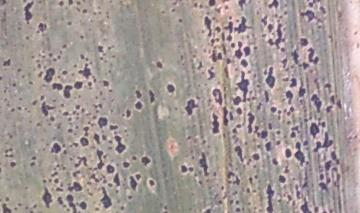tarspot: (262, 64, 279, 90), (314, 130, 335, 150), (237, 70, 250, 101), (97, 185, 112, 209), (308, 93, 324, 115), (112, 133, 127, 156), (22, 1, 36, 25), (275, 18, 286, 48), (201, 13, 214, 38), (198, 151, 209, 180), (233, 17, 251, 34), (244, 109, 255, 136), (294, 140, 305, 167), (265, 181, 274, 213), (298, 8, 316, 24), (185, 95, 198, 117), (93, 148, 105, 171), (77, 62, 93, 79), (307, 45, 321, 64), (233, 144, 246, 164), (41, 186, 52, 209), (307, 119, 320, 138), (39, 100, 54, 116), (210, 47, 225, 63), (210, 110, 219, 136), (211, 86, 223, 105), (90, 130, 103, 147), (65, 193, 76, 213), (290, 46, 300, 68), (147, 86, 157, 107), (298, 197, 311, 213), (43, 66, 55, 83), (221, 104, 229, 129), (287, 74, 298, 92), (49, 140, 62, 155), (66, 180, 82, 192), (127, 174, 137, 193), (165, 80, 176, 97), (276, 172, 289, 186), (317, 180, 330, 194), (140, 153, 152, 168), (112, 171, 122, 189), (64, 82, 73, 102), (264, 1, 281, 11), (283, 145, 293, 162), (284, 88, 294, 105), (96, 116, 110, 128), (205, 67, 216, 82), (331, 149, 341, 165), (77, 199, 89, 212), (154, 58, 165, 72), (121, 158, 132, 172), (73, 79, 84, 93), (50, 82, 64, 93), (262, 140, 273, 154), (223, 19, 234, 33), (133, 86, 143, 101), (35, 23, 50, 33), (269, 156, 281, 168), (225, 168, 237, 180), (1, 200, 12, 213), (250, 150, 261, 163), (321, 80, 334, 91), (105, 161, 115, 175), (236, 1, 250, 11), (2, 56, 12, 70), (265, 36, 275, 50), (335, 95, 343, 112), (231, 94, 242, 106), (298, 35, 309, 47), (79, 135, 89, 148), (178, 162, 187, 176), (240, 56, 249, 70), (133, 100, 144, 111), (243, 43, 251, 58), (269, 104, 279, 116), (233, 38, 240, 55), (96, 42, 105, 55), (324, 158, 333, 171), (147, 177, 157, 188), (297, 87, 307, 98), (225, 55, 235, 66), (61, 108, 71, 119), (81, 123, 91, 134), (125, 106, 132, 121), (325, 103, 333, 116), (134, 172, 144, 182), (273, 127, 283, 137), (8, 158, 17, 169), (259, 127, 268, 138), (100, 78, 111, 87), (108, 122, 119, 131), (267, 22, 275, 34), (289, 129, 297, 141), (226, 31, 233, 44), (319, 119, 328, 129), (236, 105, 244, 116), (235, 122, 244, 131), (214, 24, 222, 34), (208, 1, 219, 8), (302, 61, 309, 72), (74, 102, 81, 113), (318, 171, 325, 181)
